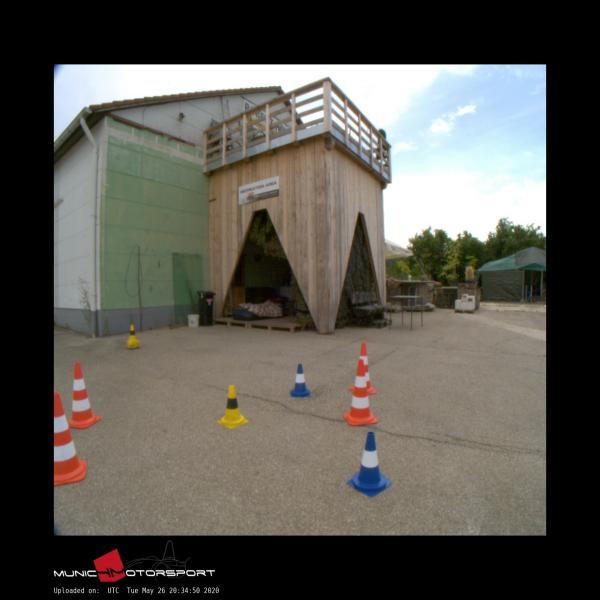blue_cone: (348, 432, 392, 496), (290, 364, 310, 396)
large_orange_cone: (54, 391, 85, 485), (67, 362, 101, 428), (344, 359, 378, 424), (349, 343, 376, 393)
yellow_cone: (217, 385, 248, 428), (127, 325, 138, 340)
